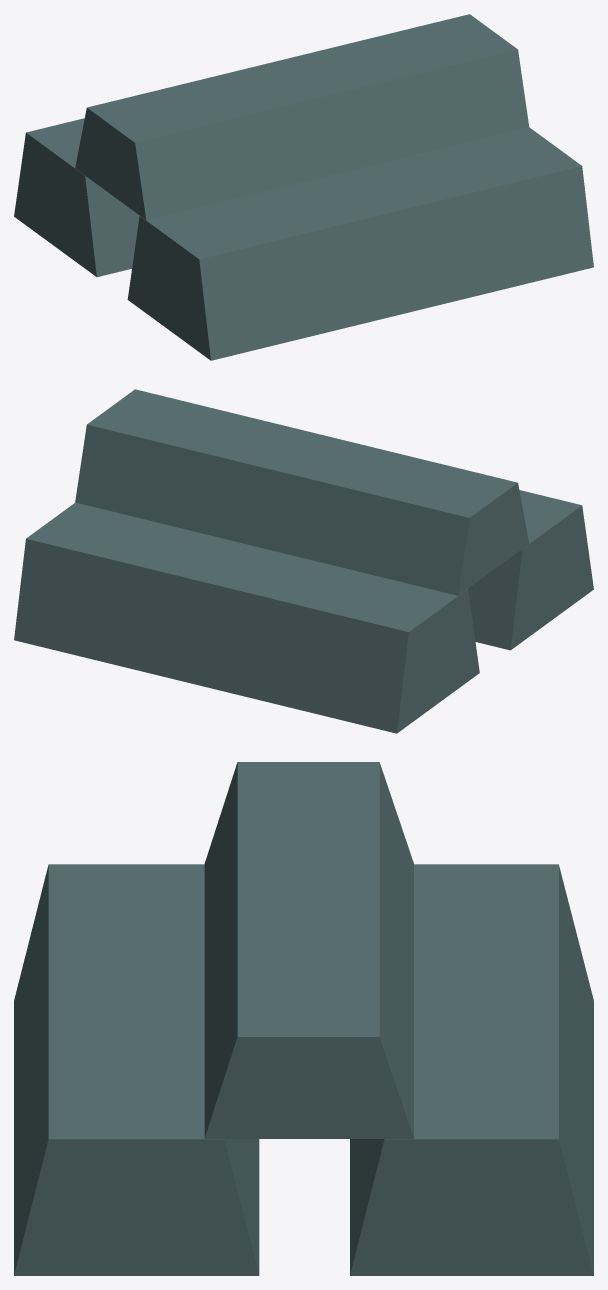
File: MetalResource.dae
The picture shows the model from 3 angles, top to bottom: view 1: azimuth 30°, elevation 25°; view 2: azimuth 150°, elevation 25°; view 3: azimuth 270°, elevation 25°; orthographic projection. The views are drawn at different scales.
Parts seen in each view (by area): view 1: Cube; view 2: Cube; view 3: Cube.
Boxes of the visible parts, x1,y1,x2,y2 form: Cube: [14, 14, 593, 360]; Cube: [14, 389, 593, 733]; Cube: [14, 762, 593, 1275].
Bounding box in the file's own units: 2 × 1.78 × 0.8102.
